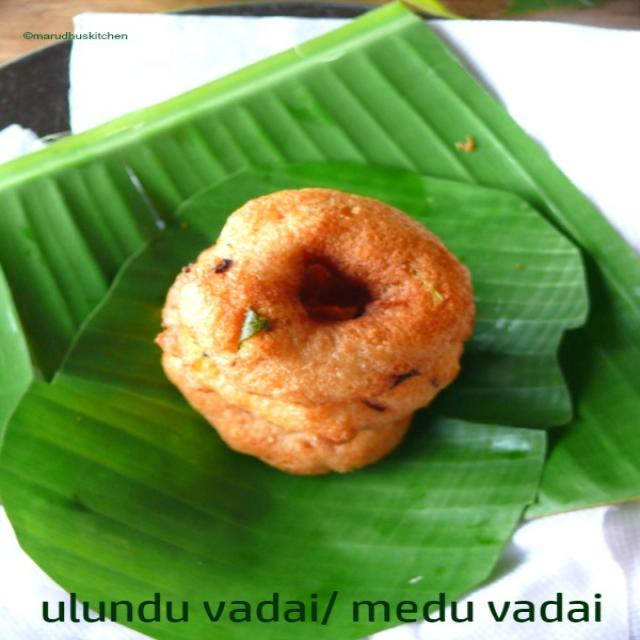medu vadai: (158, 188, 474, 473)
